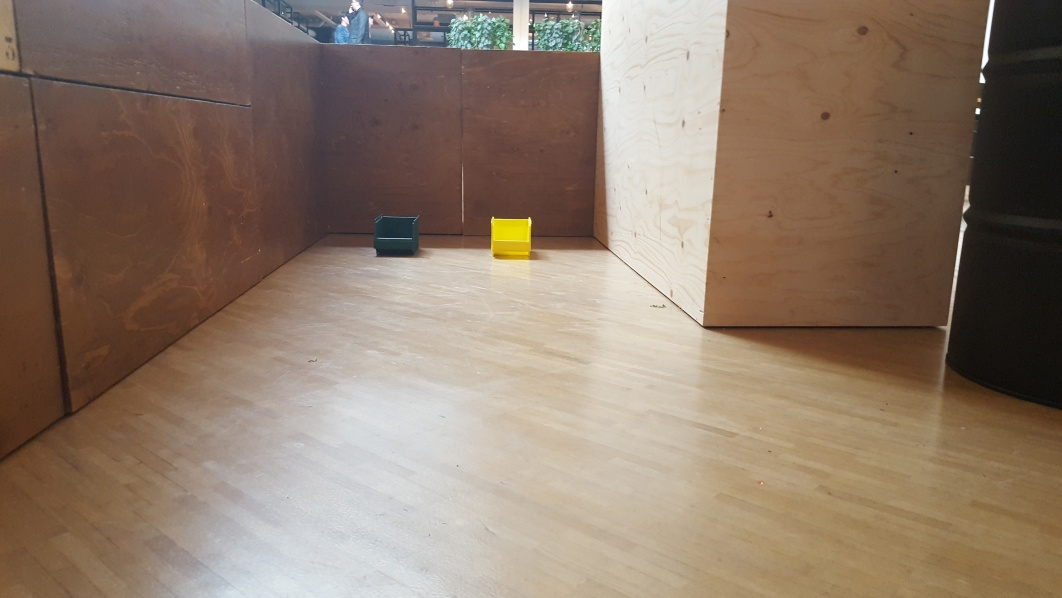tray: (487, 215, 536, 263), (372, 215, 420, 257)
